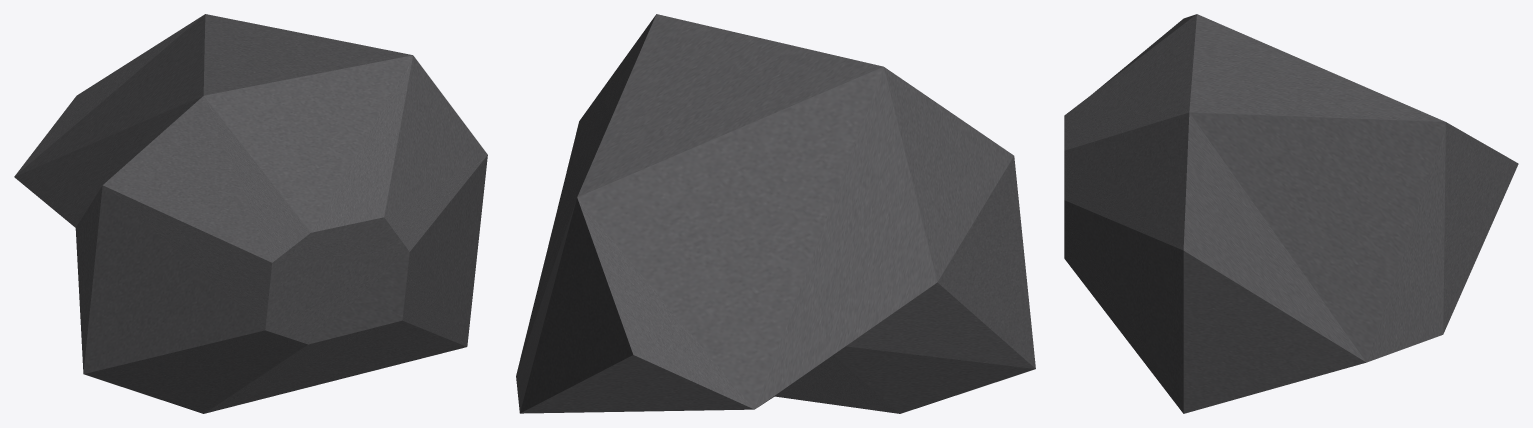
Rendered from all_share_rock_3.FBX.
3 renders of one model, left to right at view 1: azimuth 30°, elevation 25°; view 2: azimuth 150°, elevation 25°; view 3: azimuth 270°, elevation 25°, orthographic. The views are drawn at different scales.
Parts seen in each view (by area): view 1: rock_2; view 2: rock_2; view 3: rock_2.
Boxes of the visible parts, x1=… form: rock_2: x1=14, y1=14, x2=487, y2=413; rock_2: x1=516, y1=14, x2=1035, y2=413; rock_2: x1=1064, y1=14, x2=1518, y2=413.
Bounding box in the file's own units: 274 × 202 × 289.
